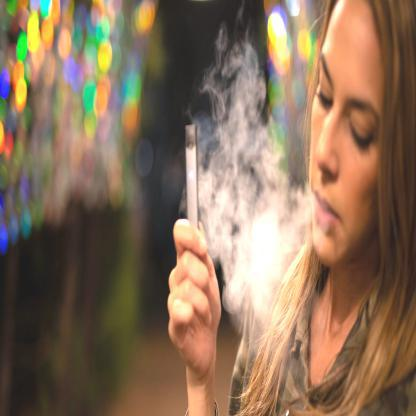cigarette: (184, 123, 200, 225)
person: (293, 0, 415, 415)
smoke: (207, 146, 290, 320), (212, 42, 267, 153)
